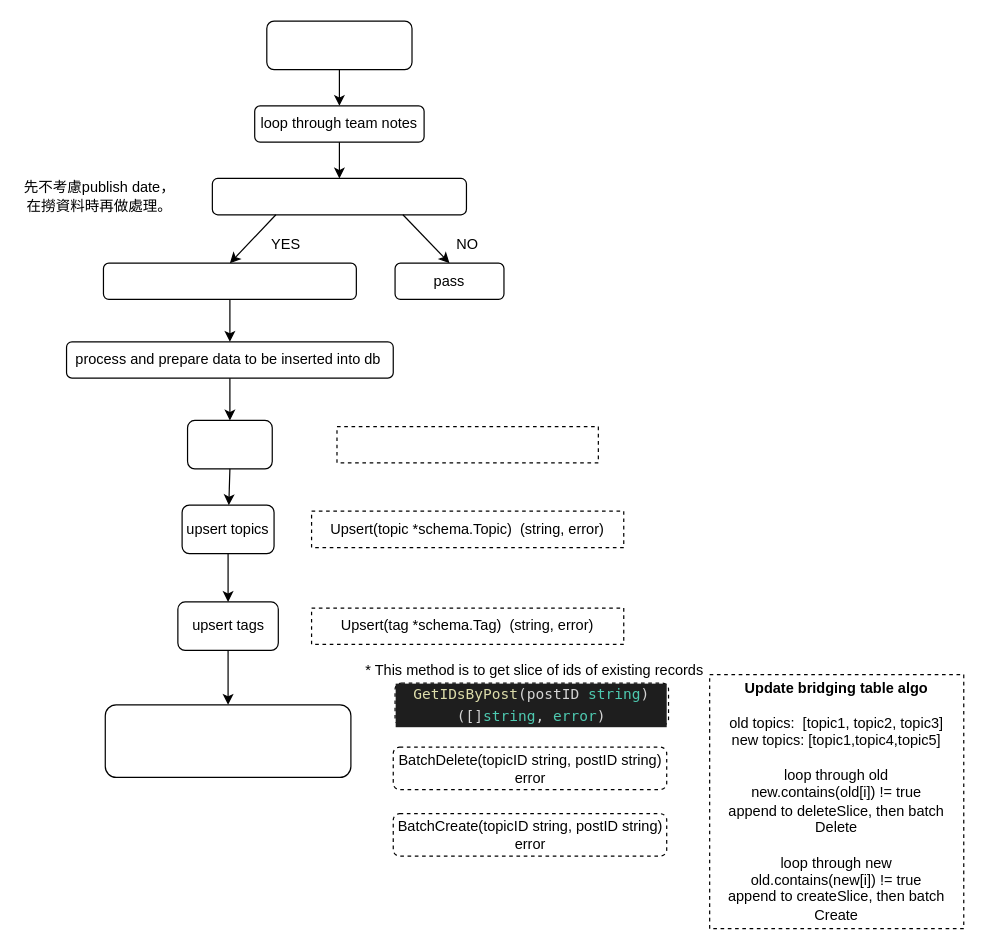
The diagram is 985 pixels wide and 950 high, and some of its shapes have lost their labels. The shapes that lost their labels are listed below. From the top down, each one's centre as x and y in pixels, then its label:
(339,45): fetch api to get list of team notes
(338,196): if last update within a day from now
(229,280): fetch another api to get note details
(229,444): upsert post
(467,444): Upsert(post *schema.Post) error
(227,740): update post_topics, post_tags and author_posts table
